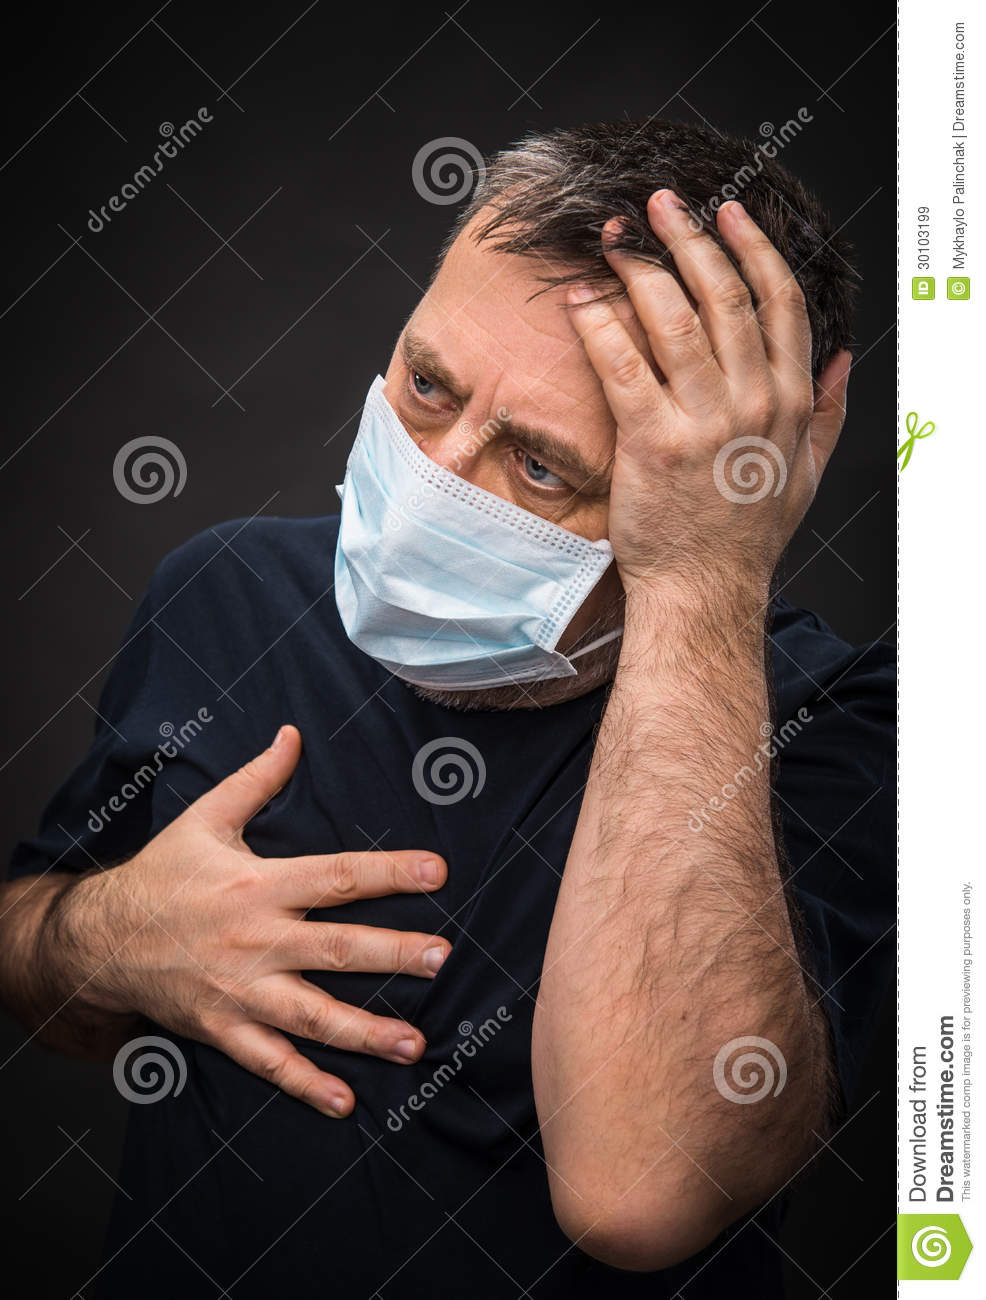mask: (328, 391, 619, 689)
